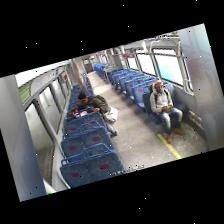person: (149, 80, 183, 143), (74, 92, 109, 115)
